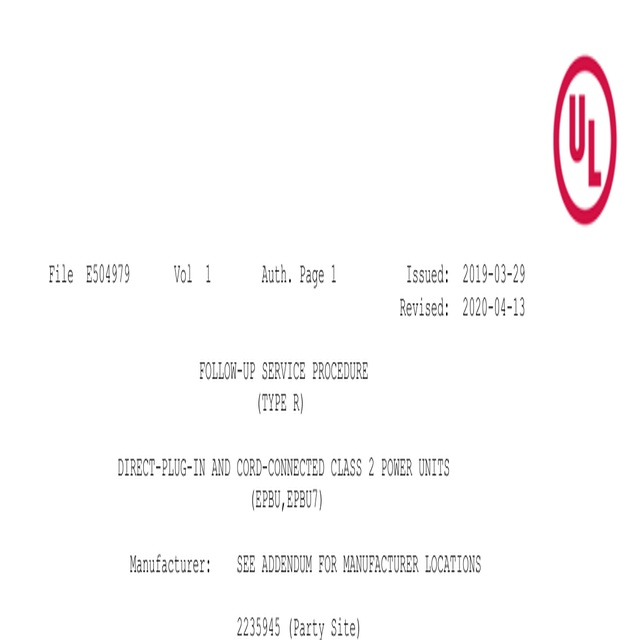ul: (551, 53, 618, 231)
